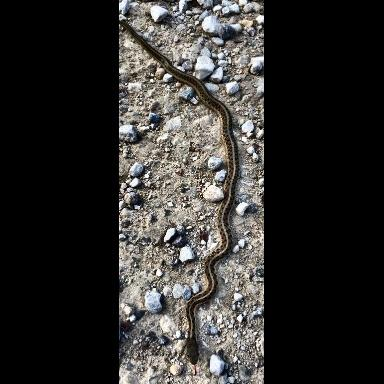snake: (120, 0, 238, 367)
